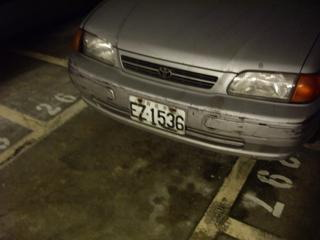plate: (126, 92, 187, 139)
